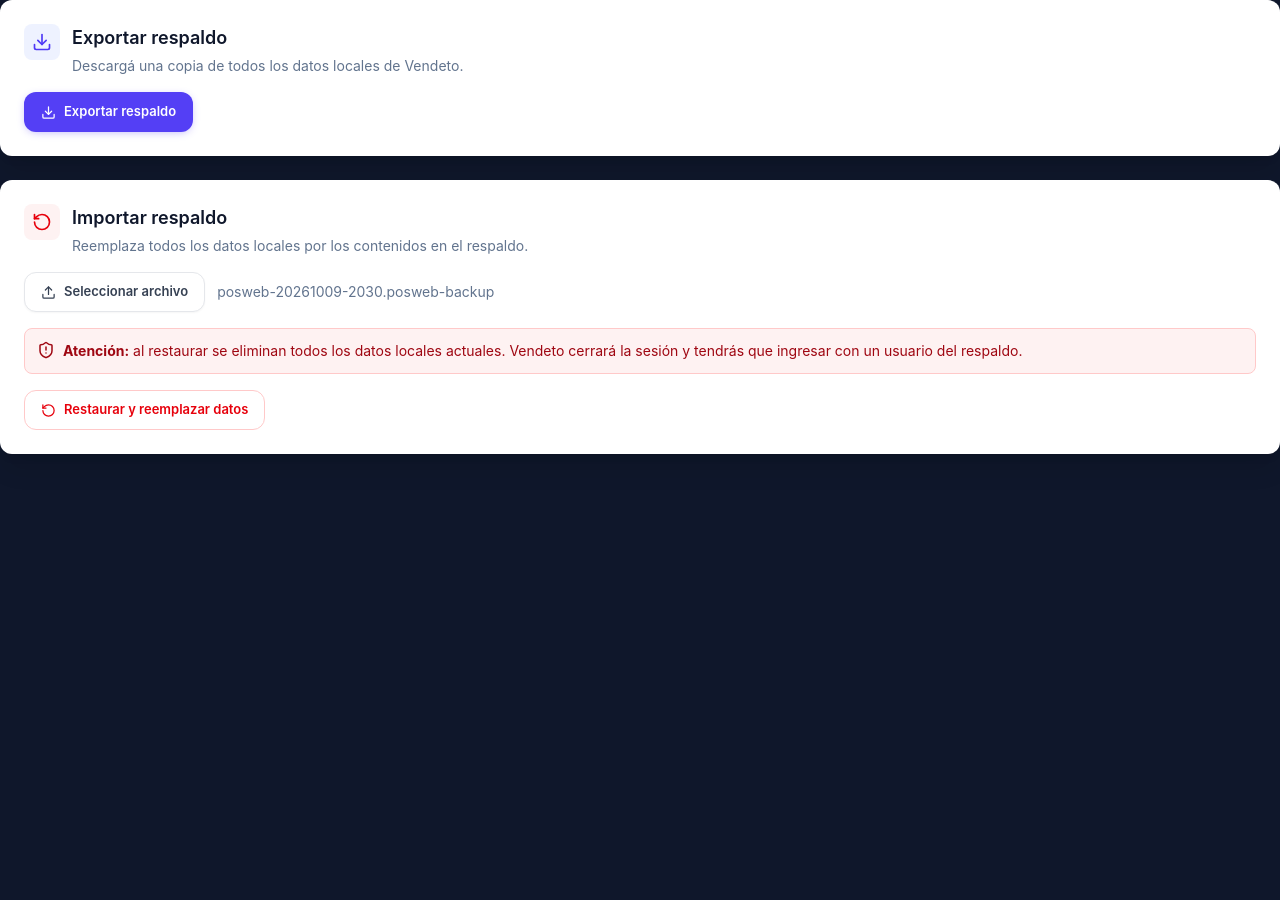
RespaldoTab › shows the backup company before restoring
The width and height of the screenshot is (1280, 900).
Earlier steps of the test are not shown.
What coordinates should you click on to do the following:
click the button "Restaurar y reemplazar datos"
I would click on:
 (145, 410)
Its box is [24, 390, 265, 430].
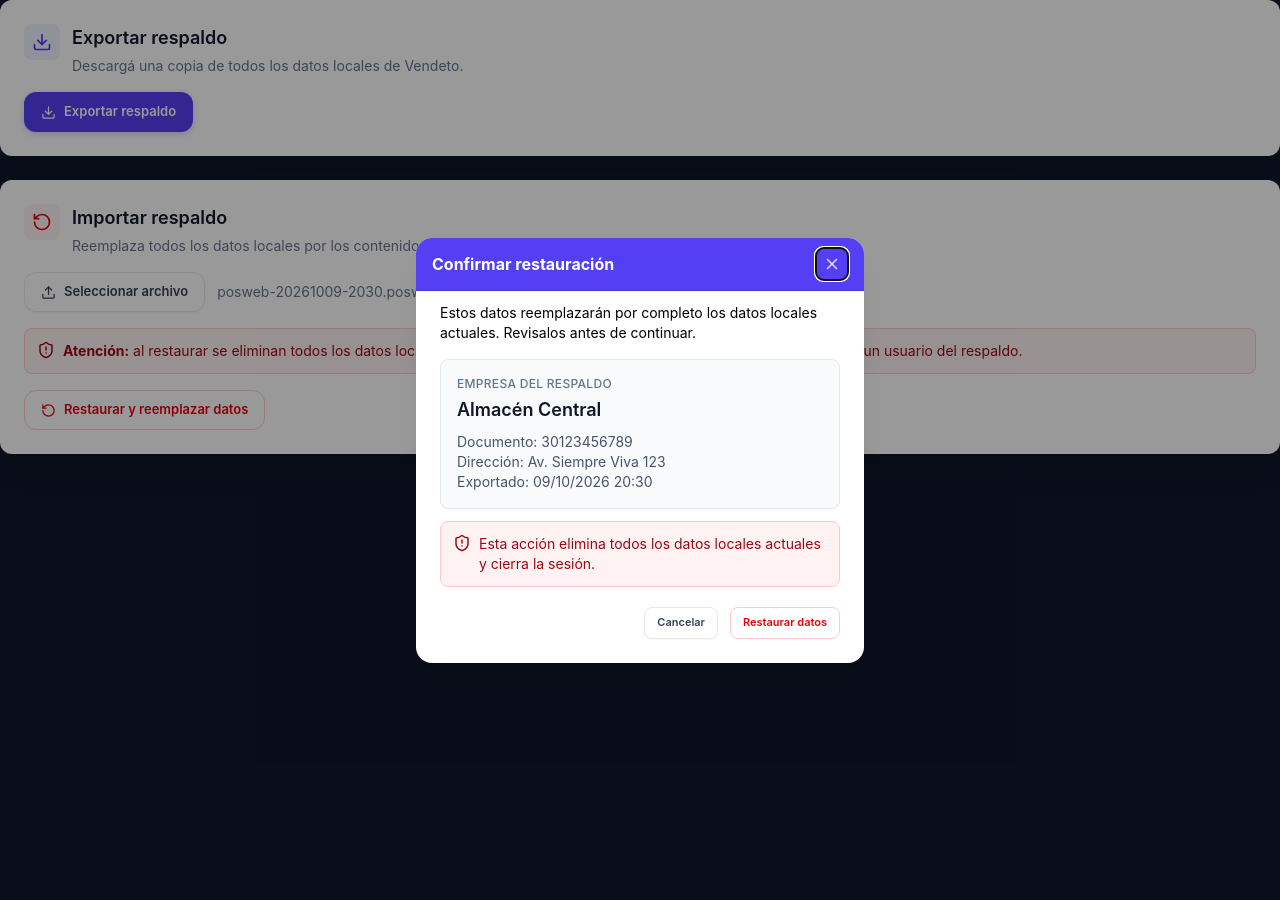
Check: the text "Almacén Central" is shown, box [457, 398, 601, 420]
Check: the text "Documento: 30123456789" is shown, box [457, 432, 633, 450]
Check: the text "Dirección: Av. Siempre Viva 123" is shown, box [457, 452, 666, 470]
